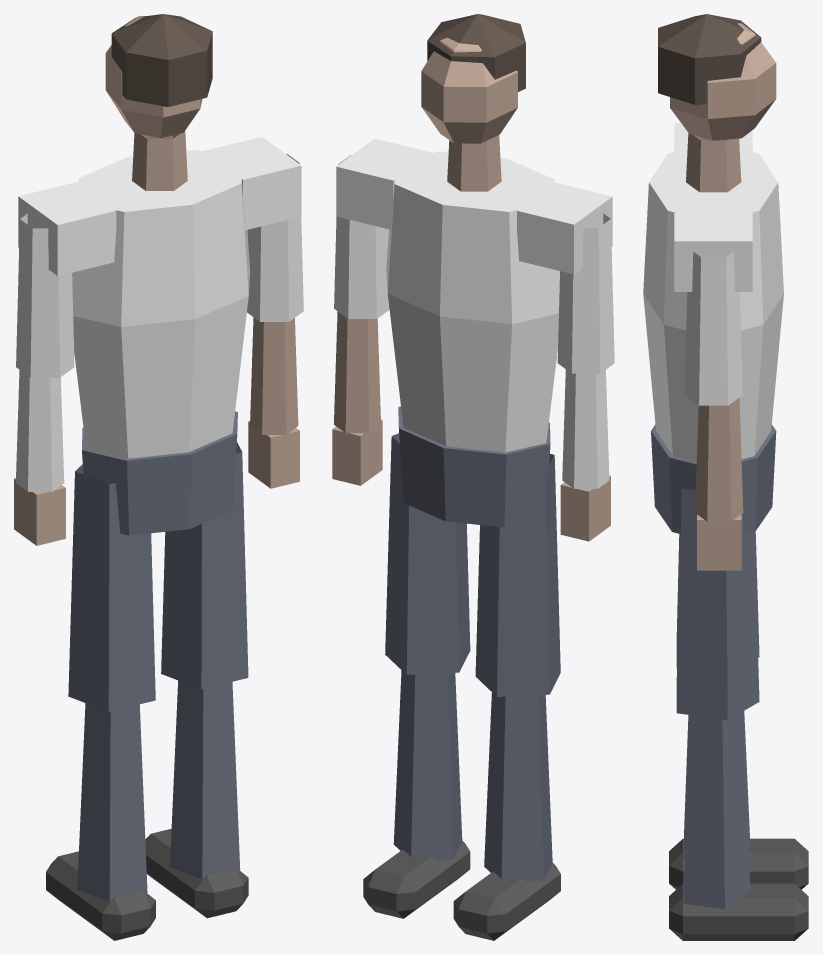
File: pedestrian.glb
3 renders of one model, left to right at view 1: azimuth 30°, elevation 25°; view 2: azimuth 150°, elevation 25°; view 3: azimuth 270°, elevation 25°, orthographic. The views are drawn at different scales.
Visible parts, largest first — view 1: pedestrian; view 2: pedestrian; view 3: pedestrian.
Part boxes in pixels (x1,y1,x2,y2): pedestrian: (14,14,303,940); pedestrian: (332,14,614,940); pedestrian: (643,14,808,940).
Bounding box in the file's own units: 0.5601 × 1.77 × 0.2958.
